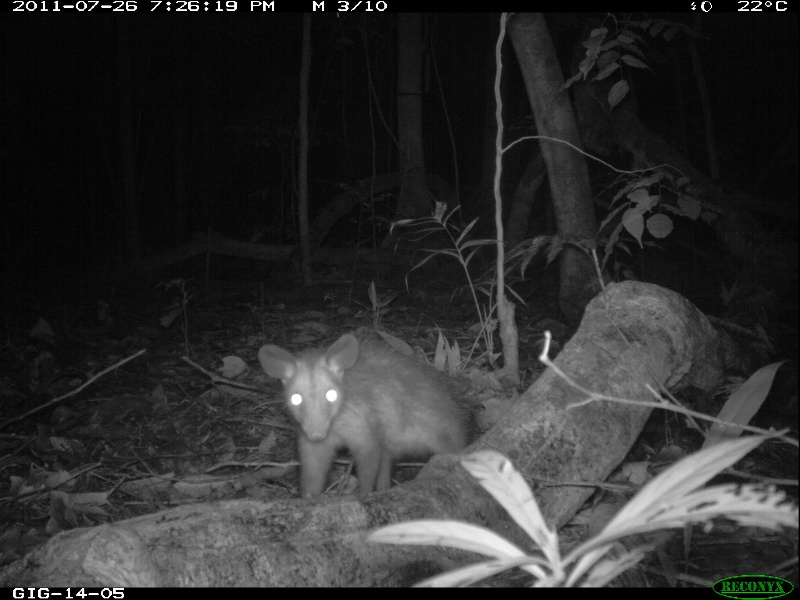opossum: (256, 330, 487, 504)
